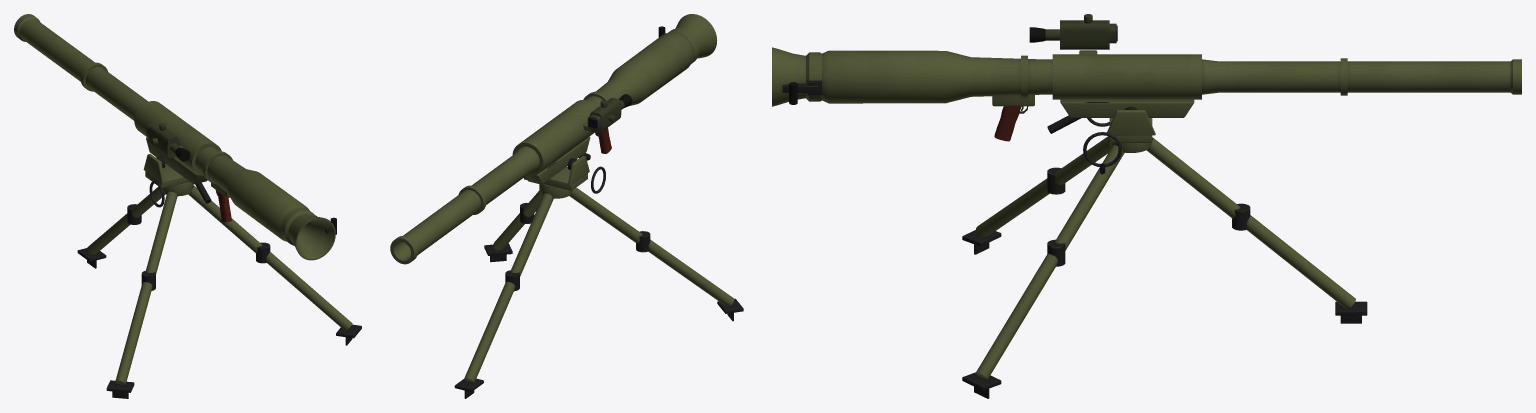
File: spg9.glb
The picture shows the model from 3 angles, left to right: view 1: azimuth 30°, elevation 25°; view 2: azimuth 150°, elevation 25°; view 3: azimuth 270°, elevation 25°; orthographic projection. The views are drawn at different scales.
Parts seen in each view (by area): view 1: spg9_body, mount; view 2: spg9_body, mount; view 3: spg9_body, mount.
Boxes of the visible parts, x1,y1,x2,y2 form: spg9_body: (14, 14, 336, 260); mount: (77, 154, 361, 398); spg9_body: (390, 14, 717, 264); mount: (454, 153, 743, 398); spg9_body: (772, 14, 1521, 141); mount: (962, 110, 1367, 398).
Bounding box in the file's own units: 1.07 × 0.895 × 2.11.
1 material, 1 textured.
